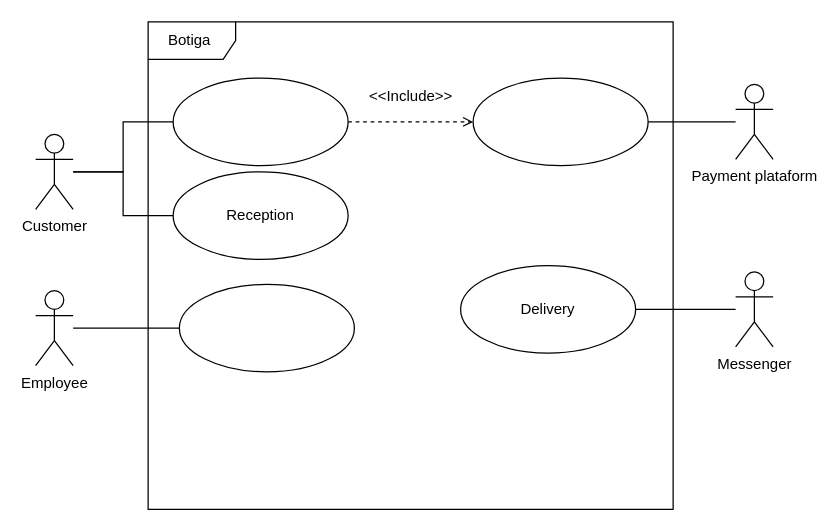
This 839x531 diagram has some shape labels left out. The shapes that lost their labels are listed below. From the top down, each one's centre as x and y in pixels, then its label:
At point (260, 121): "Fill Basket".
At point (560, 121): "Payment".
At point (266, 327): "Shipping".
